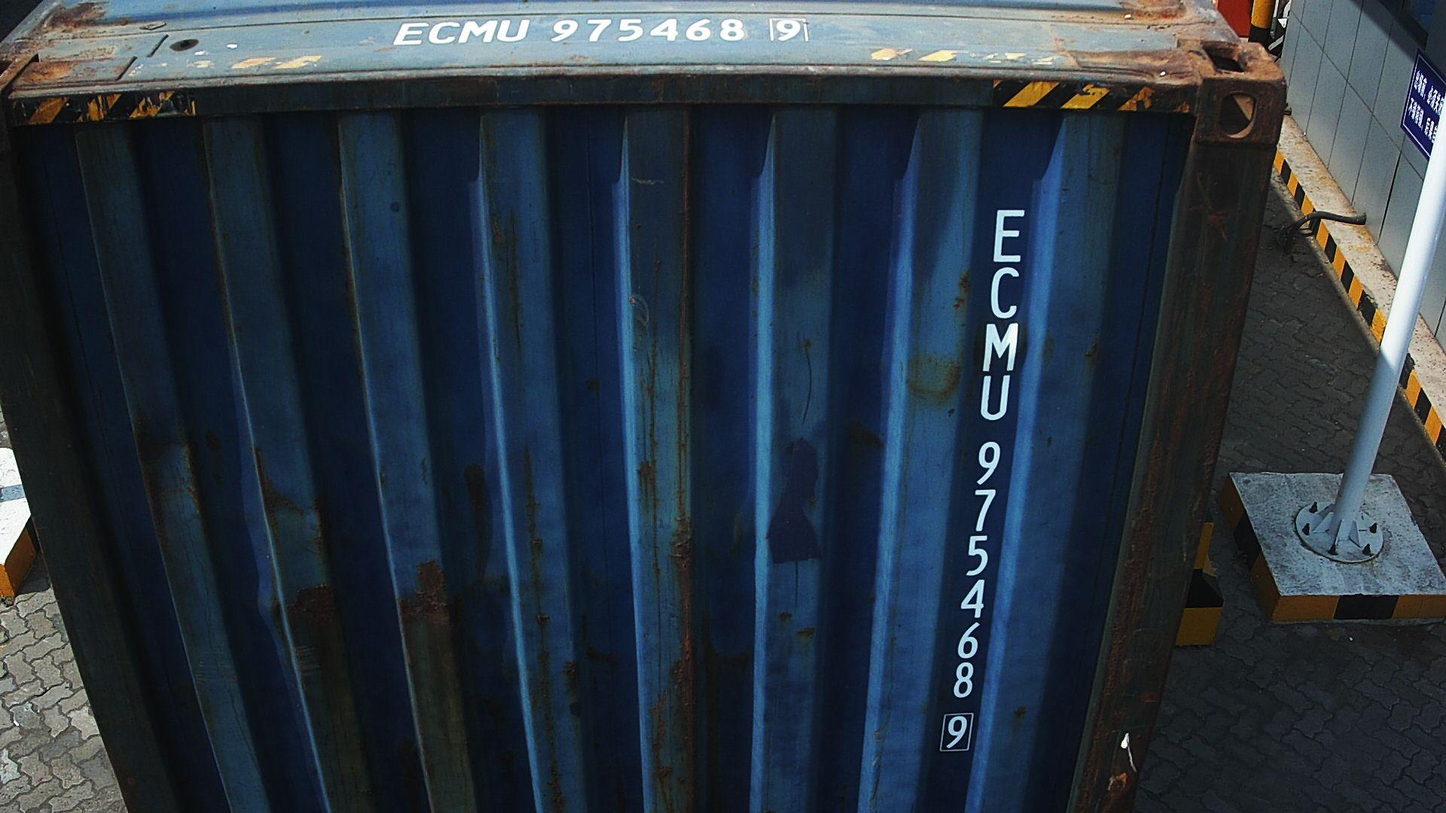container-numbers: (935, 201, 1032, 756), (384, 11, 819, 49)
